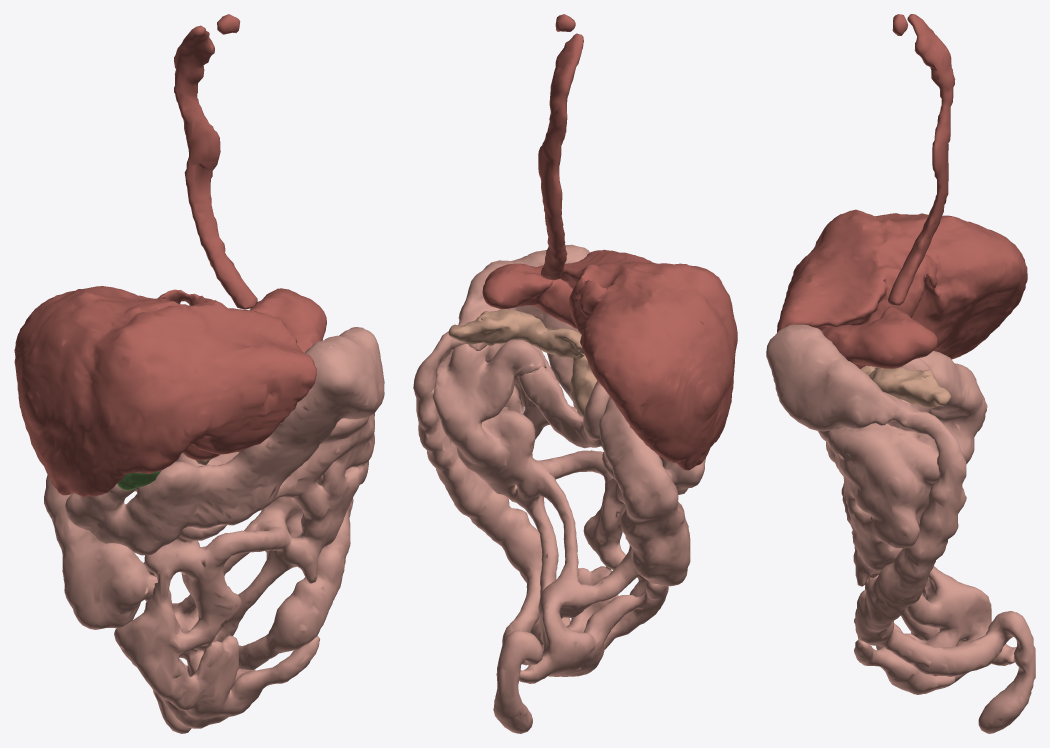
The model's file is tsd_s0327_older_adult_male.digestive.LOD2.glb.
The picture shows the model from 3 angles, left to right: view 1: azimuth 30°, elevation 25°; view 2: azimuth 150°, elevation 25°; view 3: azimuth 270°, elevation 25°; orthographic projection. The views are drawn at different scales.
Parts seen in each view (by area): view 1: TSD_S0327.OLDER_ADULT.MALE.DIGESTIVE.LIVER, TSD_S0327.OLDER_ADULT.MALE.DIGESTIVE.COLON, TSD_S0327.OLDER_ADULT.MALE.DIGESTIVE.SMALL_BOWEL_JEJUNUM_AND, TSD_S0327.OLDER_ADULT.MALE.DIGESTIVE.ESOPHAGUS, TSD_S0327.OLDER_ADULT.MALE.DIGESTIVE.STOMACH; view 2: TSD_S0327.OLDER_ADULT.MALE.DIGESTIVE.SMALL_BOWEL_JEJUNUM_AND, TSD_S0327.OLDER_ADULT.MALE.DIGESTIVE.LIVER, TSD_S0327.OLDER_ADULT.MALE.DIGESTIVE.COLON, TSD_S0327.OLDER_ADULT.MALE.DIGESTIVE.ESOPHAGUS, TSD_S0327.OLDER_ADULT.MALE.DIGESTIVE.PANCREAS, TSD_S0327.OLDER_ADULT.MALE.DIGESTIVE.DUODENUM, TSD_S0327.OLDER_ADULT.MALE.DIGESTIVE.STOMACH; view 3: TSD_S0327.OLDER_ADULT.MALE.DIGESTIVE.COLON, TSD_S0327.OLDER_ADULT.MALE.DIGESTIVE.LIVER, TSD_S0327.OLDER_ADULT.MALE.DIGESTIVE.SMALL_BOWEL_JEJUNUM_AND, TSD_S0327.OLDER_ADULT.MALE.DIGESTIVE.ESOPHAGUS, TSD_S0327.OLDER_ADULT.MALE.DIGESTIVE.STOMACH, TSD_S0327.OLDER_ADULT.MALE.DIGESTIVE.PANCREAS.
Part boxes in pixels (box(x1,y1,x2,y2)): TSD_S0327.OLDER_ADULT.MALE.DIGESTIVE.LIVER: box(14, 286, 316, 496); TSD_S0327.OLDER_ADULT.MALE.DIGESTIVE.COLON: box(44, 327, 384, 733); TSD_S0327.OLDER_ADULT.MALE.DIGESTIVE.SMALL_BOWEL_JEJUNUM_AND: box(114, 413, 374, 728); TSD_S0327.OLDER_ADULT.MALE.DIGESTIVE.ESOPHAGUS: box(174, 14, 257, 309); TSD_S0327.OLDER_ADULT.MALE.DIGESTIVE.STOMACH: box(183, 288, 326, 460); TSD_S0327.OLDER_ADULT.MALE.DIGESTIVE.SMALL_BOWEL_JEJUNUM_AND: box(433, 339, 668, 683); TSD_S0327.OLDER_ADULT.MALE.DIGESTIVE.LIVER: box(560, 249, 737, 470); TSD_S0327.OLDER_ADULT.MALE.DIGESTIVE.COLON: box(413, 244, 705, 733); TSD_S0327.OLDER_ADULT.MALE.DIGESTIVE.ESOPHAGUS: box(538, 14, 583, 280); TSD_S0327.OLDER_ADULT.MALE.DIGESTIVE.PANCREAS: box(448, 309, 597, 417); TSD_S0327.OLDER_ADULT.MALE.DIGESTIVE.DUODENUM: box(519, 366, 610, 448); TSD_S0327.OLDER_ADULT.MALE.DIGESTIVE.STOMACH: box(482, 263, 577, 328); TSD_S0327.OLDER_ADULT.MALE.DIGESTIVE.COLON: box(766, 324, 1035, 733); TSD_S0327.OLDER_ADULT.MALE.DIGESTIVE.LIVER: box(777, 209, 1027, 359); TSD_S0327.OLDER_ADULT.MALE.DIGESTIVE.SMALL_BOWEL_JEJUNUM_AND: box(827, 399, 1015, 694); TSD_S0327.OLDER_ADULT.MALE.DIGESTIVE.ESOPHAGUS: box(888, 14, 955, 305); TSD_S0327.OLDER_ADULT.MALE.DIGESTIVE.STOMACH: box(821, 306, 937, 368); TSD_S0327.OLDER_ADULT.MALE.DIGESTIVE.PANCREAS: box(860, 365, 951, 408).
Bounding box in the file's own units: 0.2551 × 0.57 × 0.1937.
